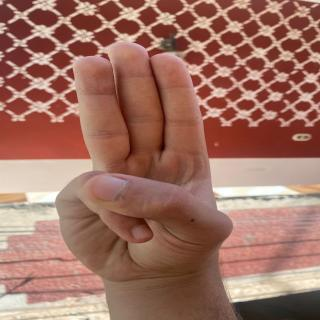THA: (35, 37, 266, 273)
